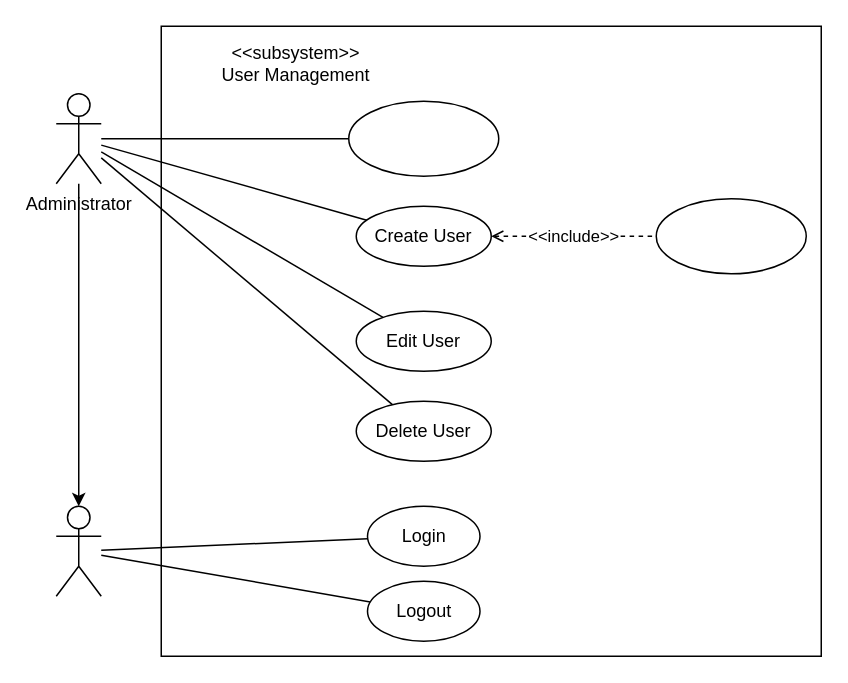
The diagram is 848 pixels wide and 683 high, and some of its shapes have lost their labels. Each missing label, with the centre of its shape:
"Ingest User List" goes at (x=423, y=138).
"Set User Password" goes at (x=730, y=235).
"User" goes at (x=78, y=550).
